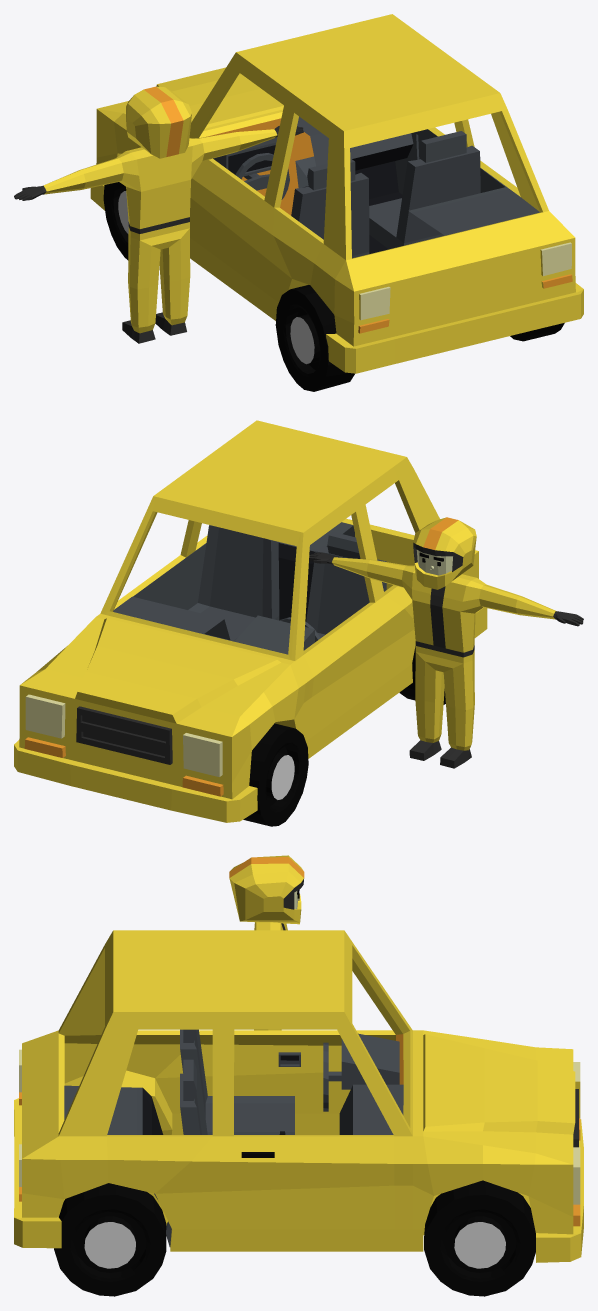
File: RaceingCars.glb
3 renders of one model, top to bottom at view 1: azimuth 30°, elevation 25°; view 2: azimuth 150°, elevation 25°; view 3: azimuth 270°, elevation 25°, orthographic. The views are drawn at different scales.
Visible parts, largest first — view 1: Cube.019, Cube.018; view 2: Cube.019, Cube.018; view 3: Cube.019, Cube.018.
Part boxes in pixels (x1,y1,x2,y2): Cube.019: (90, 14, 583, 391); Cube.018: (14, 86, 303, 343); Cube.019: (14, 420, 487, 826); Cube.018: (309, 517, 583, 768); Cube.019: (14, 930, 583, 1296); Cube.018: (229, 855, 304, 1030).
Size of the model in its own units: 10.93 by 5.9 by 11.09.
Materials: 8 (1 with a texture image).
